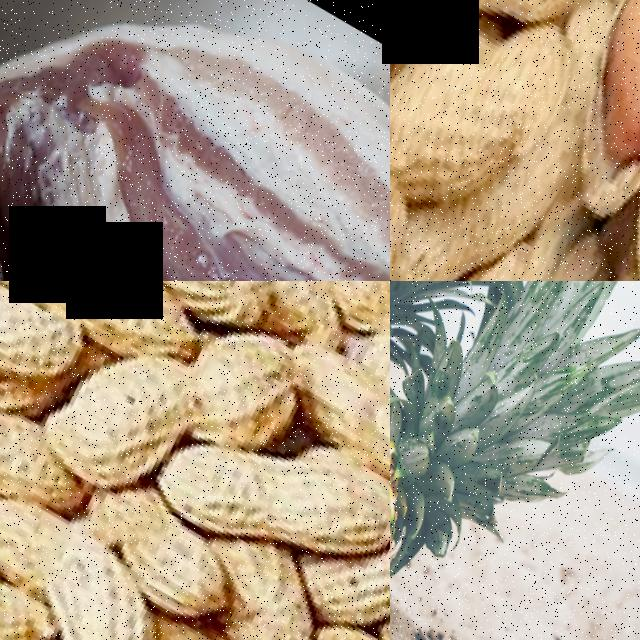peanuts: (390, 0, 586, 230), (35, 311, 213, 512), (152, 397, 316, 560), (174, 294, 318, 458), (0, 281, 197, 371), (301, 327, 390, 507), (390, 74, 464, 281), (562, 0, 640, 172), (0, 351, 39, 522), (242, 598, 390, 640), (23, 611, 214, 640)
pork belly: (0, 0, 390, 281)
